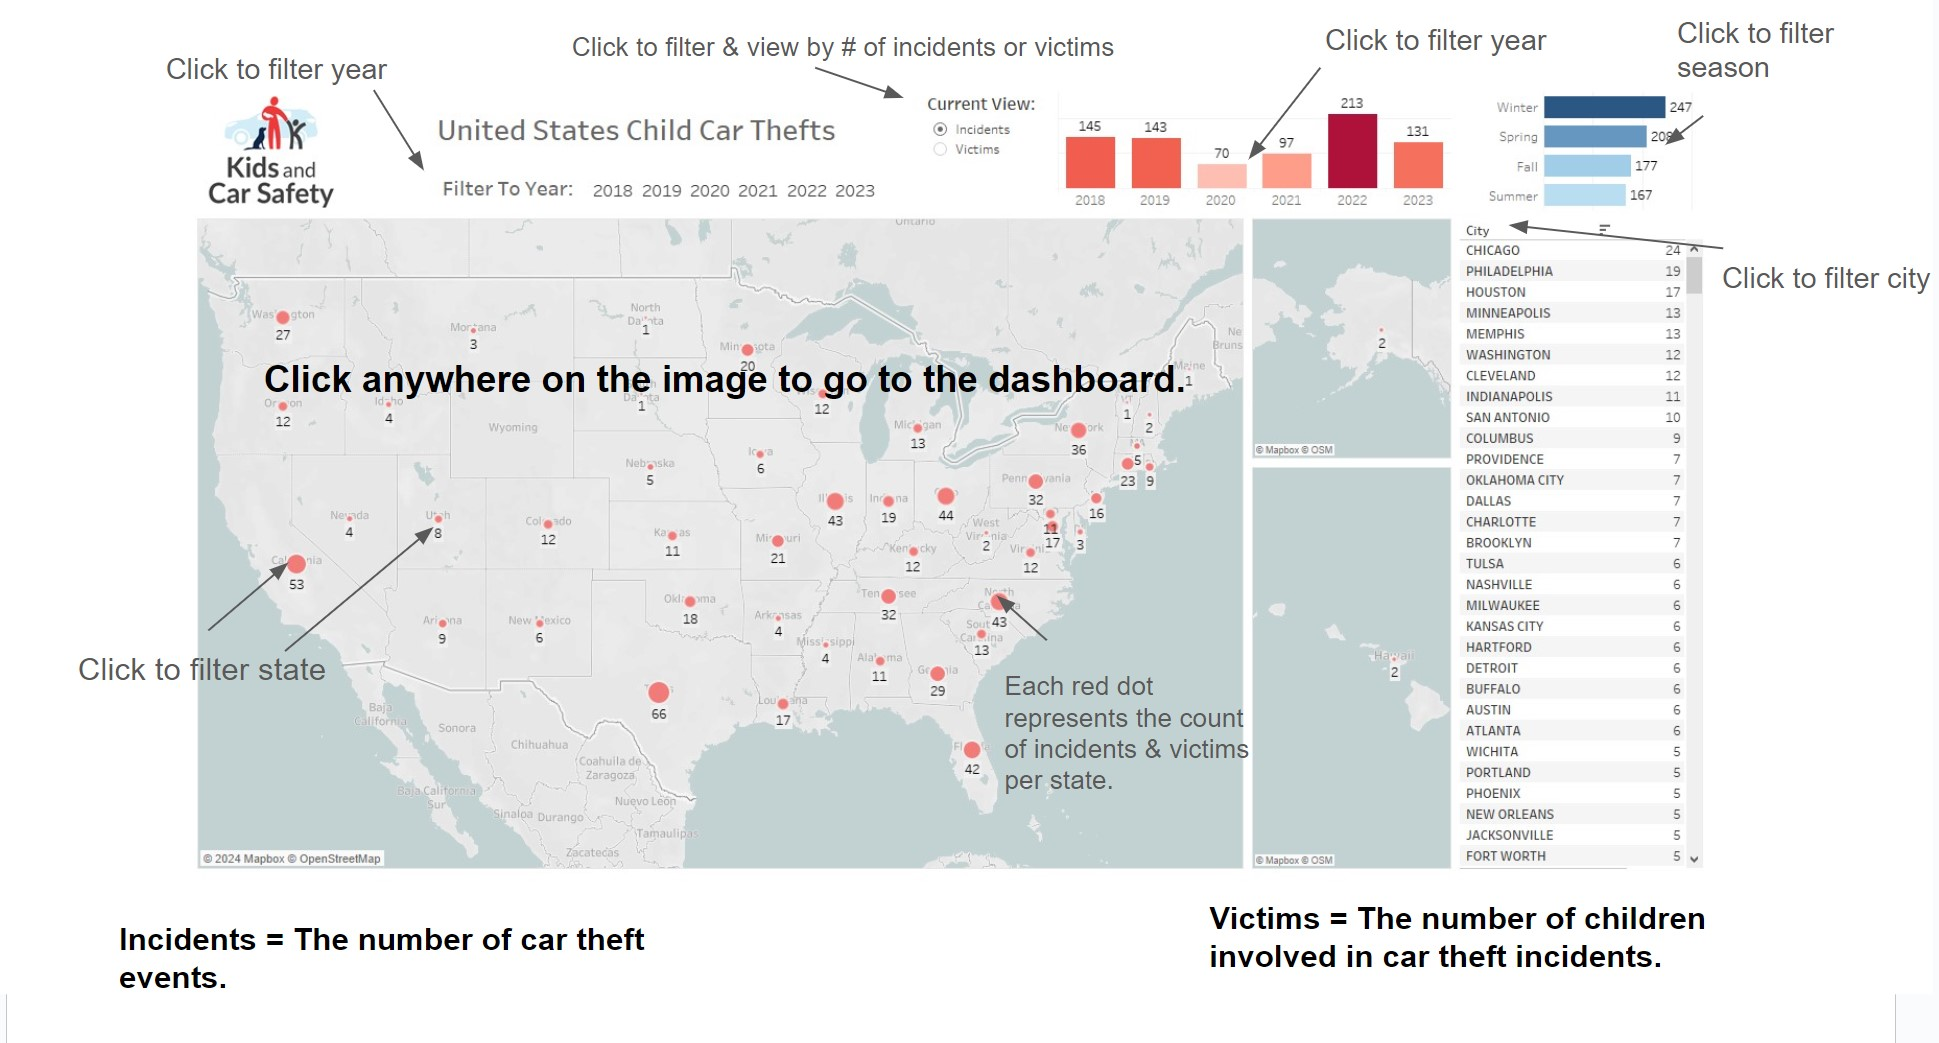

Layout of this report page (visuals, bound fields, positions):
{"tool":"tableau","page":{"name":"InstructionLanding","canvas":[1466,768],"ordinal":1},"visuals":[{"type":"dashboard-object","box":[8,8,1450,752]}]}

Visuals, with their boxes in screenshot pixels (x1, y1, x2, y2), scaled from the page's 1466x768 canvas onto the 1939x1043 screenshot:
dashboard-object: (left=11, top=11, right=1928, bottom=1032)
